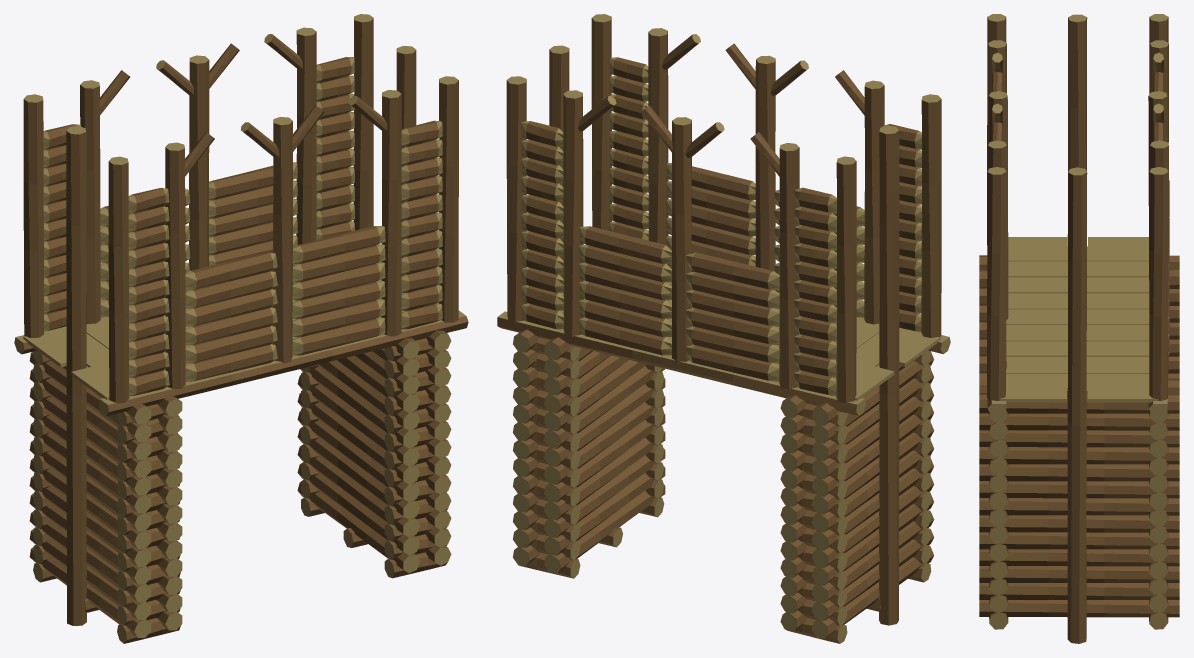
Rendered from gatehouse1.fbx.
3 renders of one model, left to right at view 1: azimuth 30°, elevation 25°; view 2: azimuth 150°, elevation 25°; view 3: azimuth 270°, elevation 25°, orthographic. The views are drawn at different scales.
Visible parts, largest first — view 1: Cylinder, Cylinder.002; view 2: Cylinder, Cylinder.002; view 3: Cylinder, Cylinder.002.
Part boxes in pixels (x1,y1,x2,y2): Cylinder: (23, 14, 458, 643); Cylinder.002: (14, 34, 468, 416); Cylinder: (506, 14, 941, 643); Cylinder.002: (497, 34, 950, 415); Cylinder: (979, 14, 1179, 643); Cylinder.002: (987, 52, 1167, 417).
Bounding box in the file's own units: 1478 × 1959 × 747.
